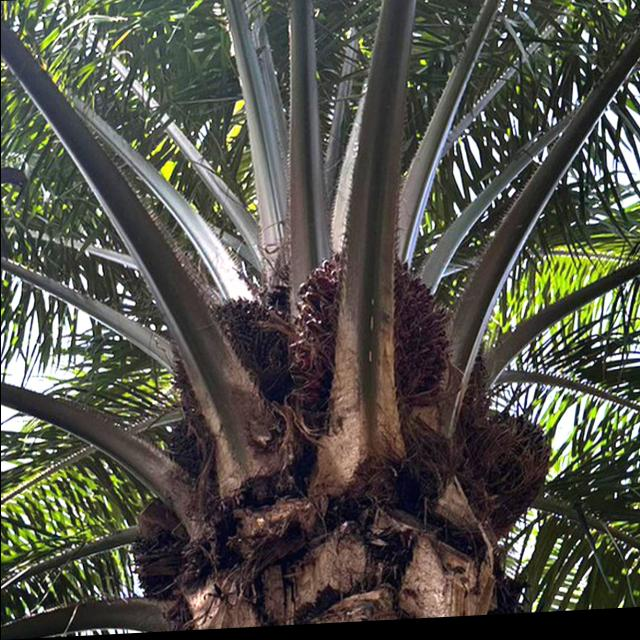ripe: (277, 229, 463, 433)
